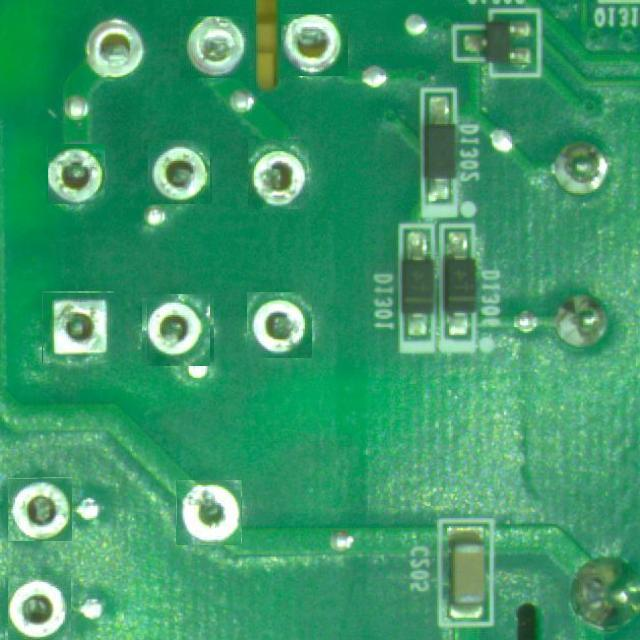lack_of_part: (42, 292, 114, 364), (80, 11, 150, 82), (144, 296, 212, 364), (6, 575, 72, 640), (176, 480, 242, 545), (247, 292, 312, 358), (280, 13, 348, 76), (180, 16, 249, 78), (248, 139, 309, 209), (7, 478, 72, 542), (149, 141, 211, 204), (47, 144, 105, 203)
